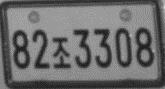0: (115, 28, 132, 67)
2: (31, 29, 50, 69)
3: (93, 28, 112, 68), (73, 28, 91, 68)
8: (12, 29, 30, 69), (135, 27, 153, 67)
조: (51, 36, 71, 68)
